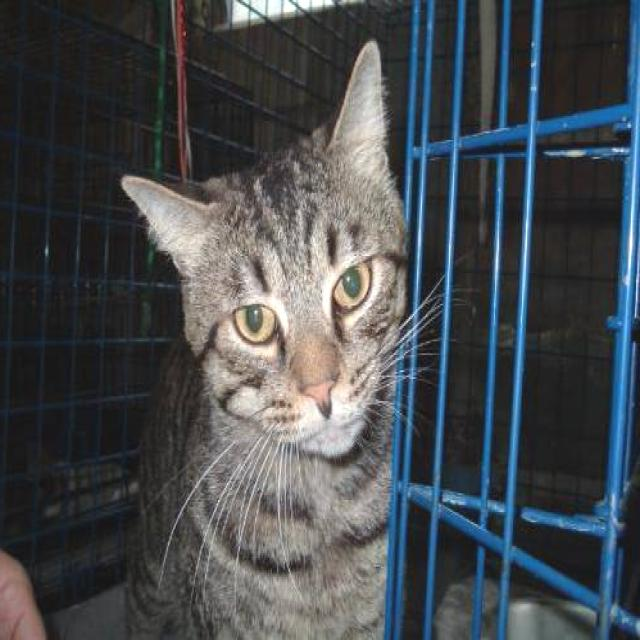Kucing: (68, 22, 440, 640)
